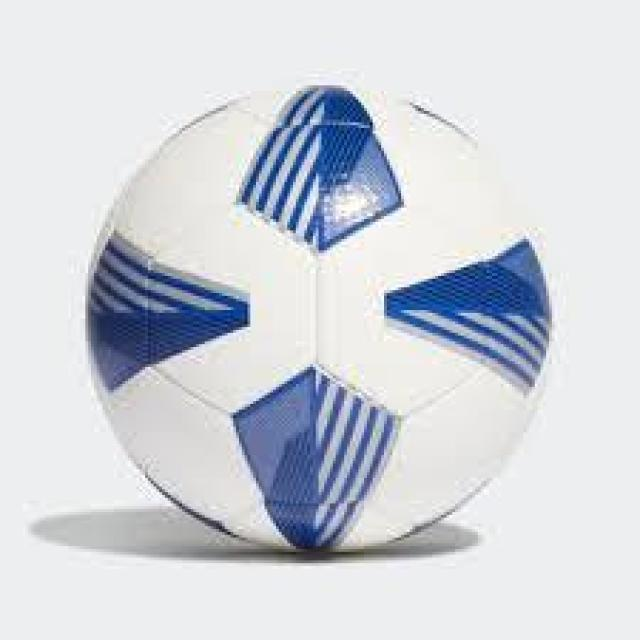ball: (72, 76, 570, 558)
